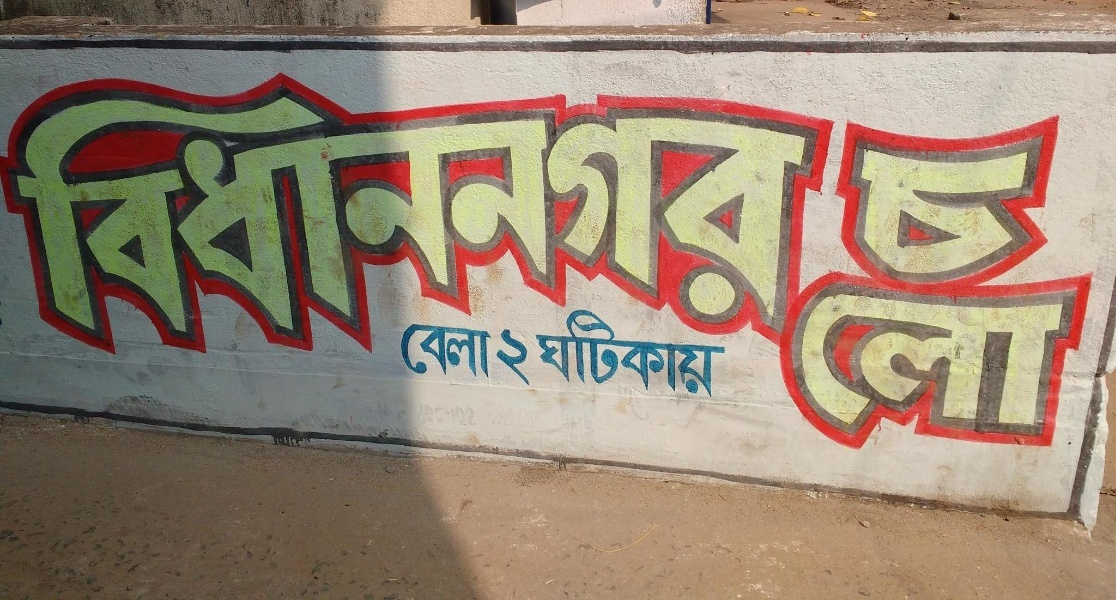text: (785, 98, 800, 452), (801, 98, 816, 452), (817, 98, 832, 452), (833, 98, 848, 452), (849, 98, 864, 452), (865, 98, 880, 452), (881, 98, 896, 452), (897, 98, 912, 452), (913, 98, 928, 452), (929, 98, 944, 452), (945, 98, 960, 452), (961, 98, 976, 452), (977, 98, 992, 452), (993, 98, 1008, 452), (1009, 98, 1024, 452), (1025, 98, 1040, 452), (1041, 98, 1056, 452), (1057, 98, 1072, 452), (1073, 98, 1088, 452), (1, 70, 16, 354), (17, 70, 32, 354), (33, 70, 48, 354), (49, 70, 64, 354), (65, 70, 80, 354), (81, 70, 96, 354), (97, 70, 112, 354), (113, 70, 128, 354), (129, 70, 144, 354), (145, 70, 160, 354), (161, 70, 176, 354), (177, 70, 192, 354), (193, 70, 208, 354), (209, 70, 224, 354), (225, 70, 240, 354), (241, 70, 256, 354), (257, 70, 272, 354), (273, 70, 288, 354), (289, 70, 304, 354), (305, 70, 320, 354), (321, 70, 336, 354), (337, 70, 352, 354), (353, 70, 368, 354), (369, 70, 384, 354), (385, 70, 400, 354), (401, 70, 416, 354), (417, 70, 432, 354), (433, 70, 448, 354), (449, 70, 464, 354), (465, 70, 480, 354), (481, 70, 496, 354), (497, 70, 512, 354), (513, 70, 528, 354), (529, 70, 544, 354), (545, 70, 560, 354), (561, 70, 576, 354), (577, 70, 592, 354), (593, 70, 608, 354), (609, 70, 624, 354), (625, 70, 640, 354), (641, 70, 656, 354), (657, 70, 672, 354), (673, 70, 688, 354), (689, 70, 704, 354), (705, 70, 720, 354), (721, 70, 736, 354), (737, 70, 752, 354), (753, 70, 768, 354), (769, 70, 784, 354), (785, 70, 800, 354), (801, 70, 816, 354), (817, 70, 832, 354), (778, 98, 784, 452), (1089, 98, 1094, 452), (545, 307, 560, 399), (561, 307, 576, 399), (577, 307, 592, 399), (593, 307, 608, 399), (609, 307, 624, 399), (625, 307, 640, 399), (641, 307, 656, 399), (657, 307, 672, 399), (673, 307, 688, 399), (689, 307, 704, 399), (705, 307, 720, 399), (497, 323, 512, 389), (513, 323, 528, 389), (401, 320, 416, 379), (417, 320, 432, 379), (433, 320, 448, 379), (449, 320, 464, 379), (465, 320, 480, 379), (535, 307, 544, 399), (481, 320, 493, 379), (721, 307, 727, 399), (833, 70, 834, 354), (529, 323, 532, 389), (494, 323, 496, 389), (398, 320, 400, 379)
